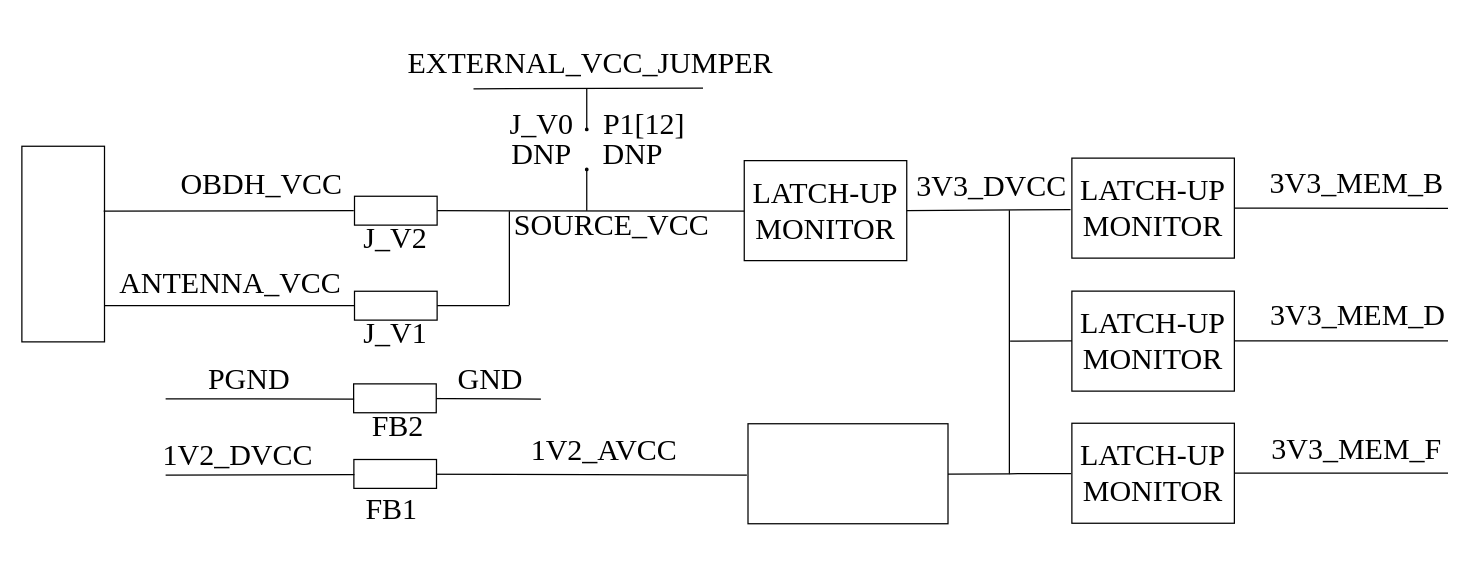
This 1471x571 diagram has some shape labels left out. The shapes that lost their labels are listed below. From the top down, each one's centre as x and y in pixels, then its label:
At [62,243]: "OBDH INTERFACE".
At [847,473]: "POWER CONVERTER".
